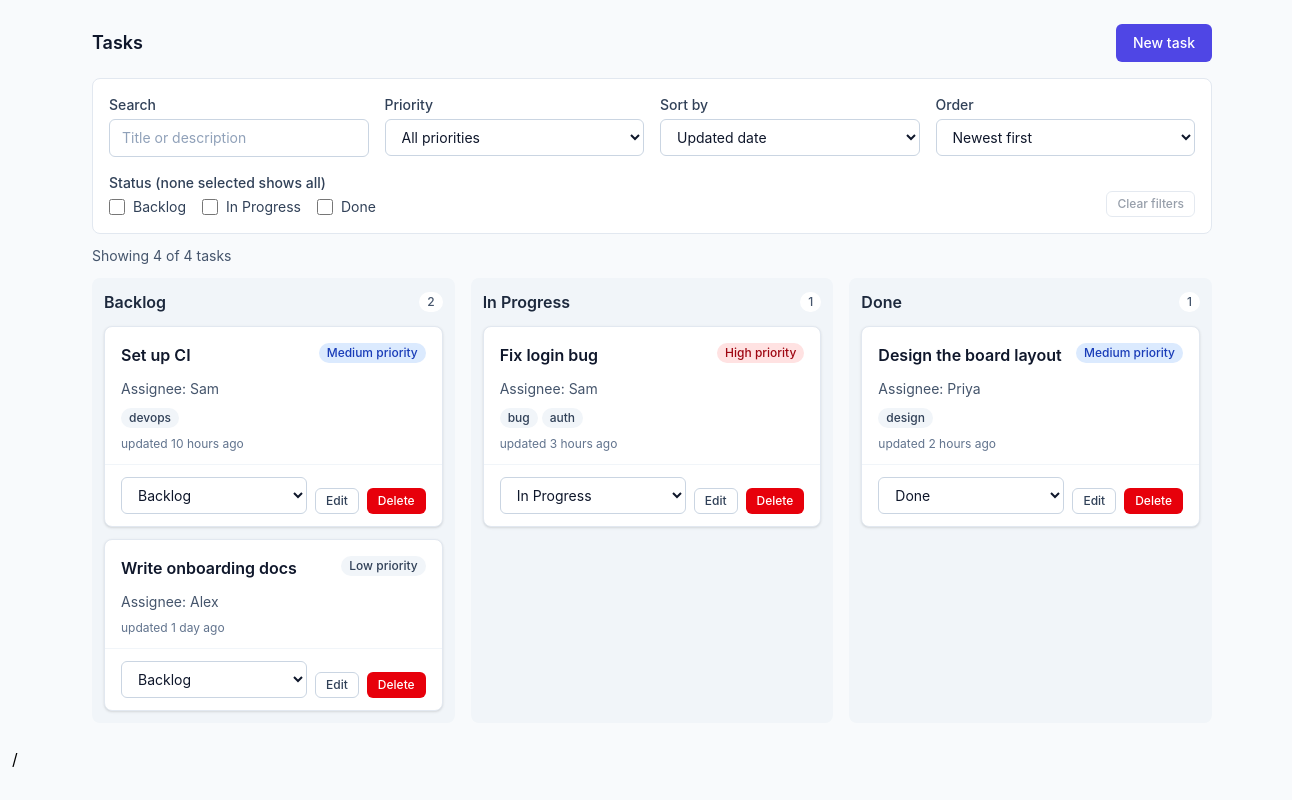
Scenario: filtering and sorting › sorts by priority and reorders the cards inside a column
The width and height of the screenshot is (1292, 800).
Select "Priority" in the dropdown labelled "Sort by": x=790, y=138 [660,119,920,156]
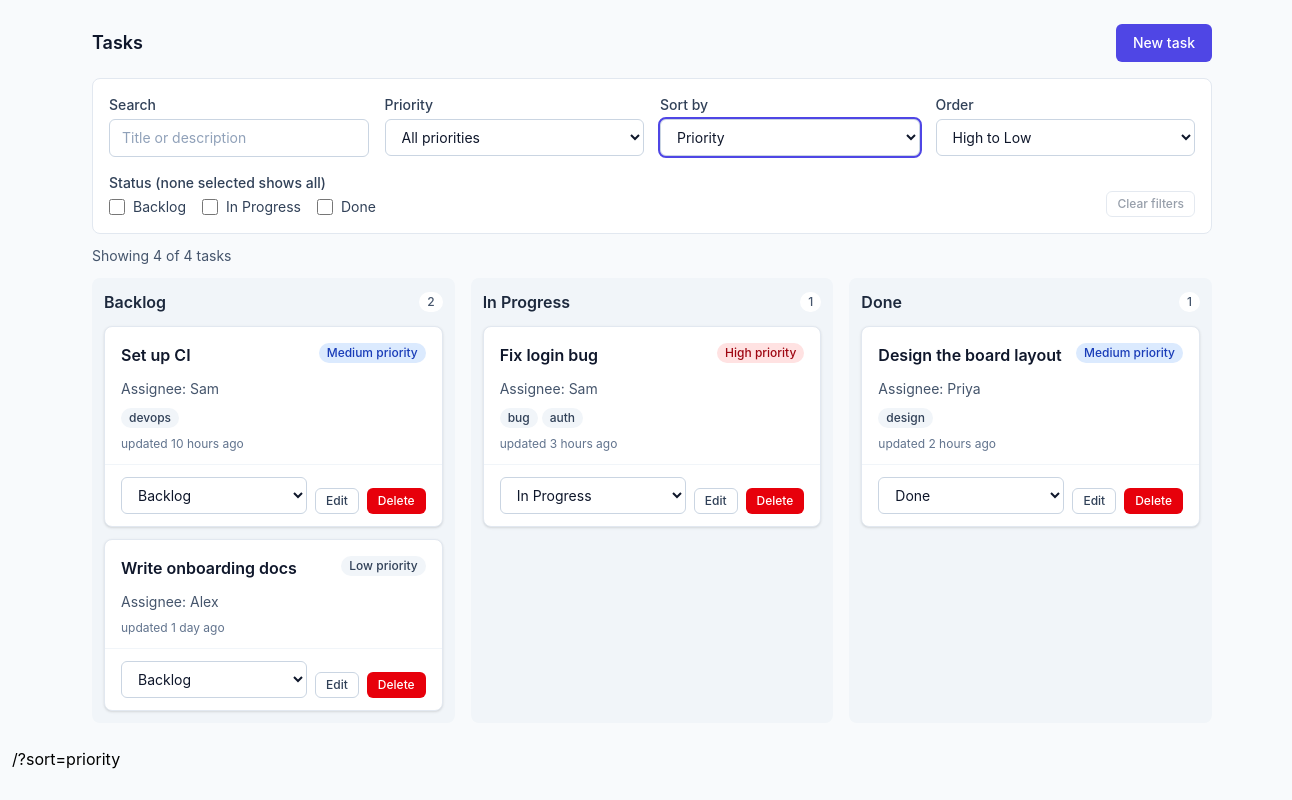
Select "Low to High" in the dropdown labelled "Order": x=1065, y=138 [936,119,1195,156]
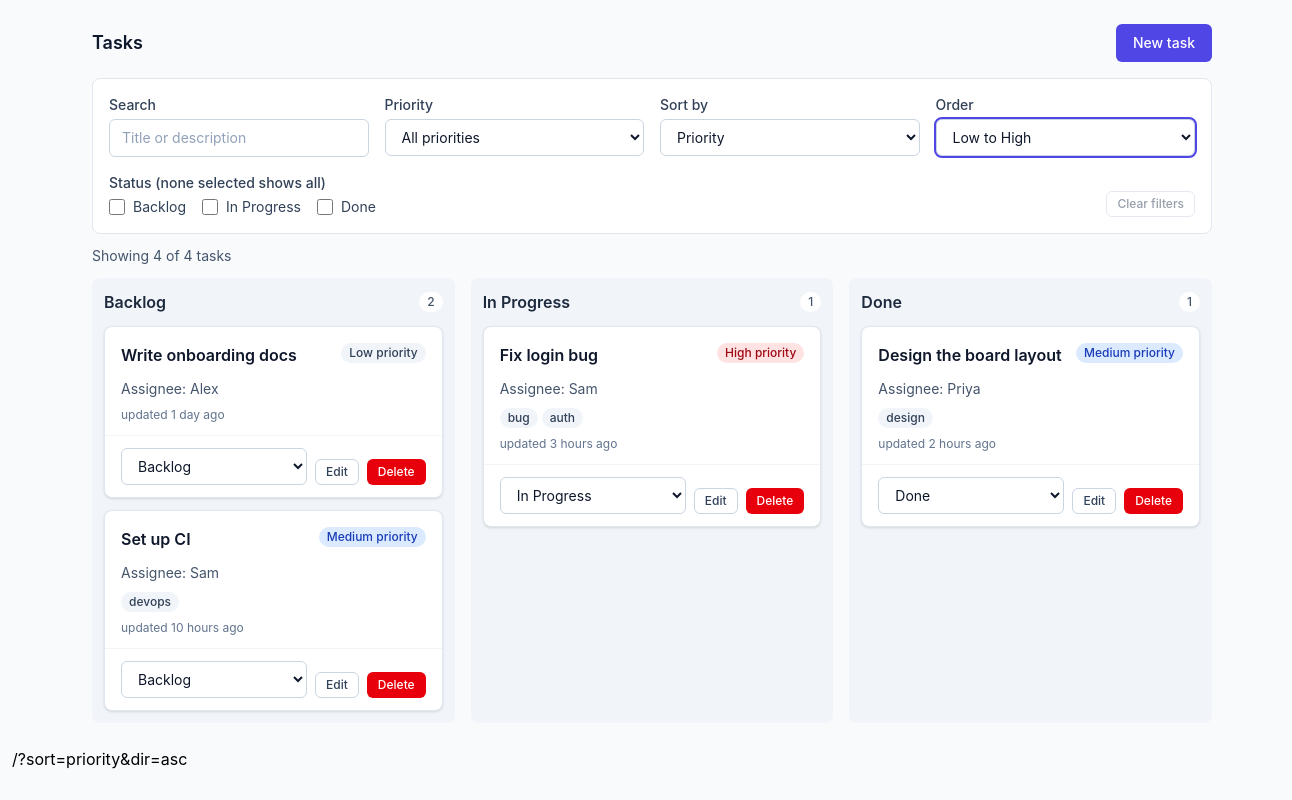
Now the text with test id "location" reads "/?sort=priority&dir=asc", box [12,749,187,769]
